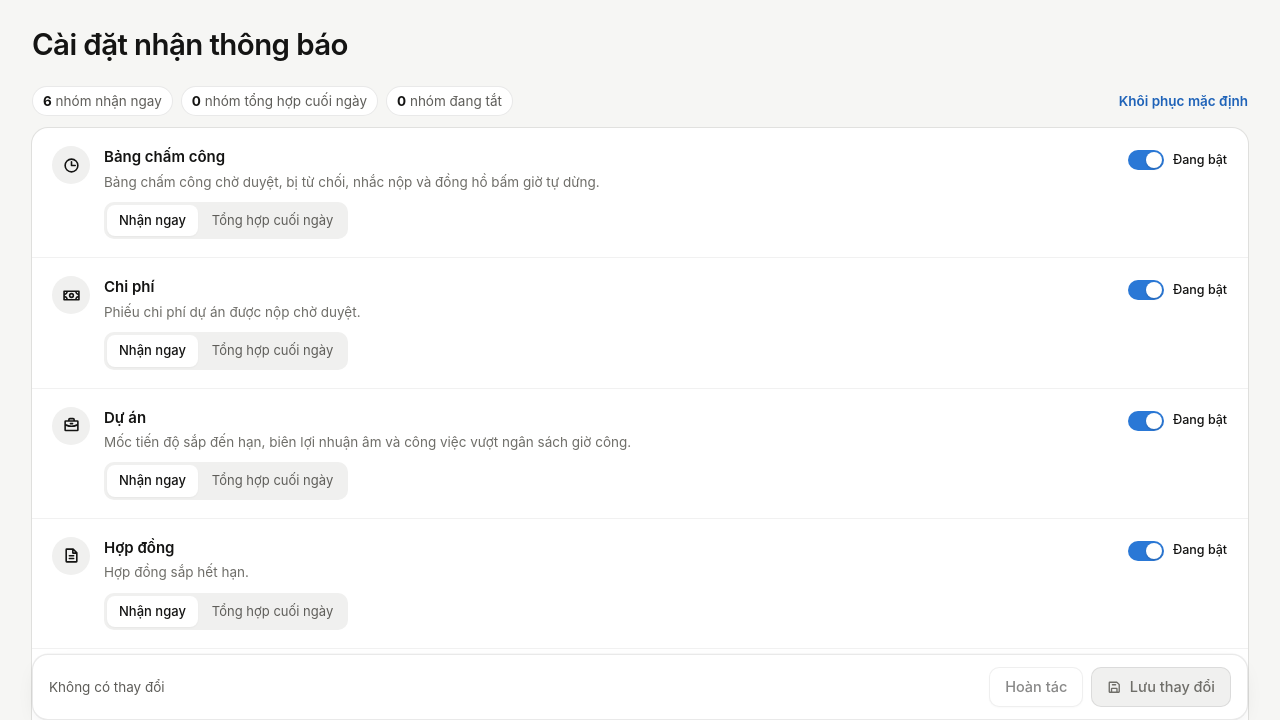
Scenario: NotificationPreferencePage (NCL-14-CN-002) › lưu thất bại thì báo lỗi và giữ nguyên thay đổi chưa lưu để thử lại
Click the switch with test id "pref-switch-CONTRACT" at (1178, 551), box [1128, 541, 1228, 561]
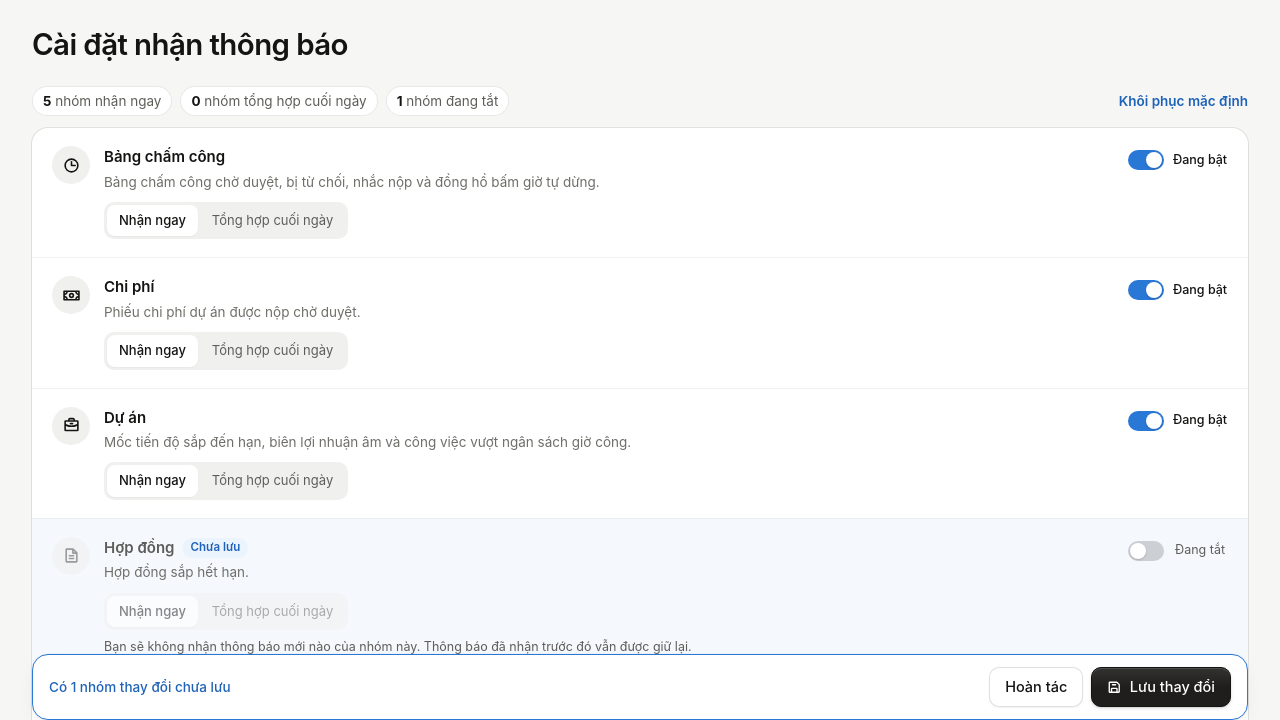
Click the button with test id "btn-pref-save" at (1161, 687), box [1091, 667, 1231, 707]
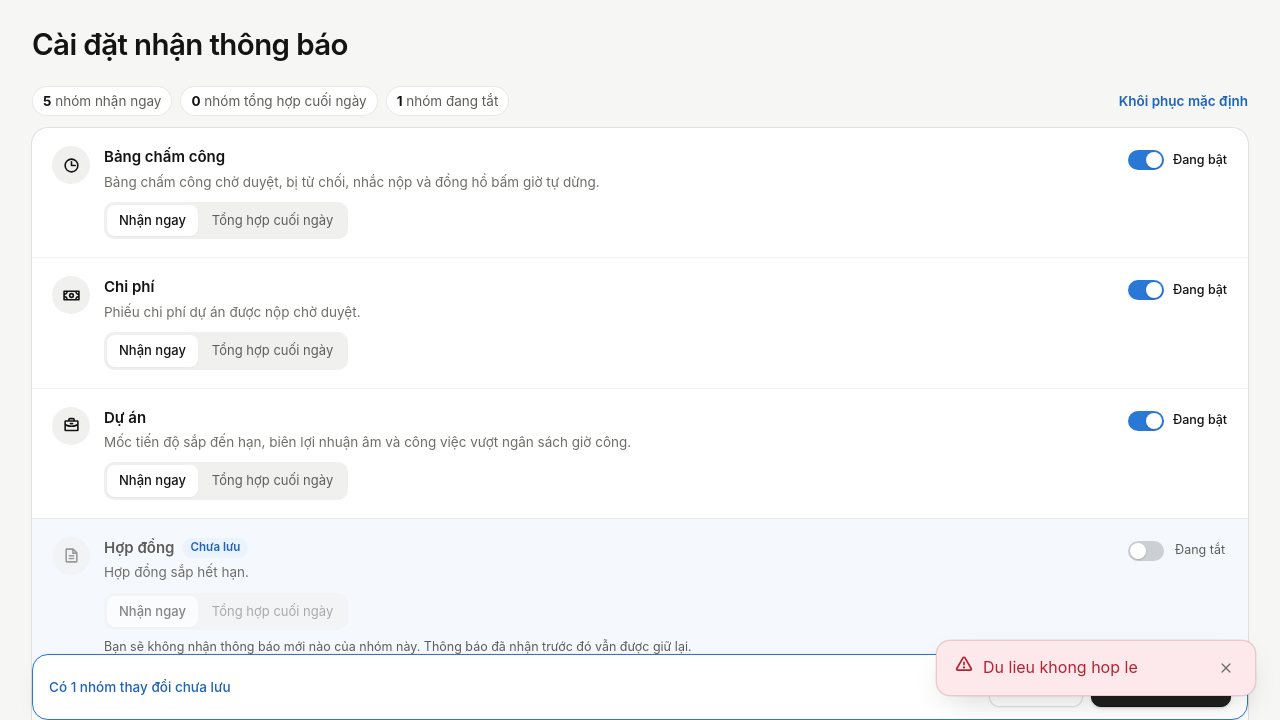
Expected: the button with test id "btn-pref-save" is enabled, [1091, 667, 1231, 707]
Expected: the text "Du lieu khong hop le" is shown, [983, 654, 1138, 678]
